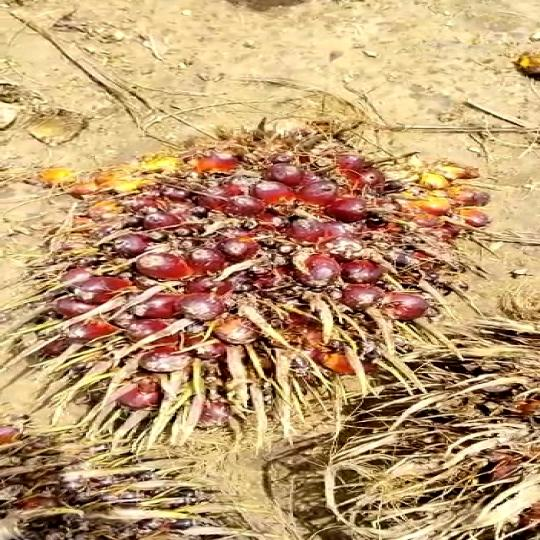kurang masak: (13, 123, 493, 435)
